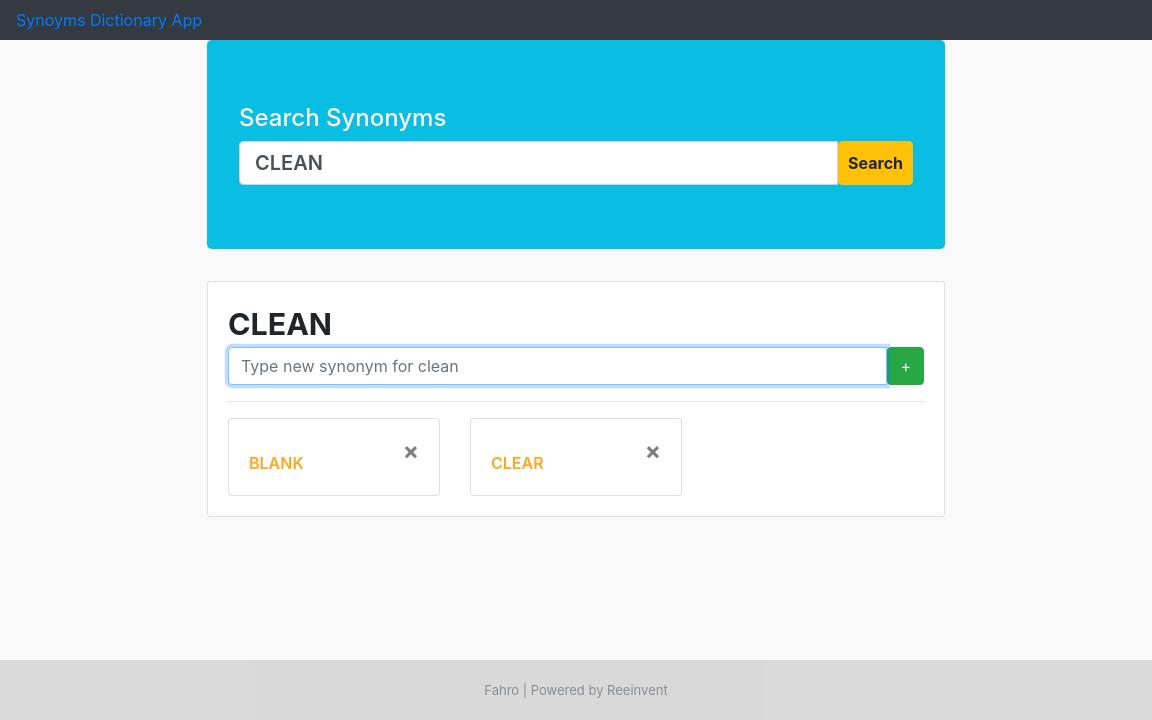
Test: <App/> › Adding synonyms › When one synonym is clicked, it displays synonyms
Click the text with class "synonym-text" showing "blank": (277,463) [249,453,304,473]
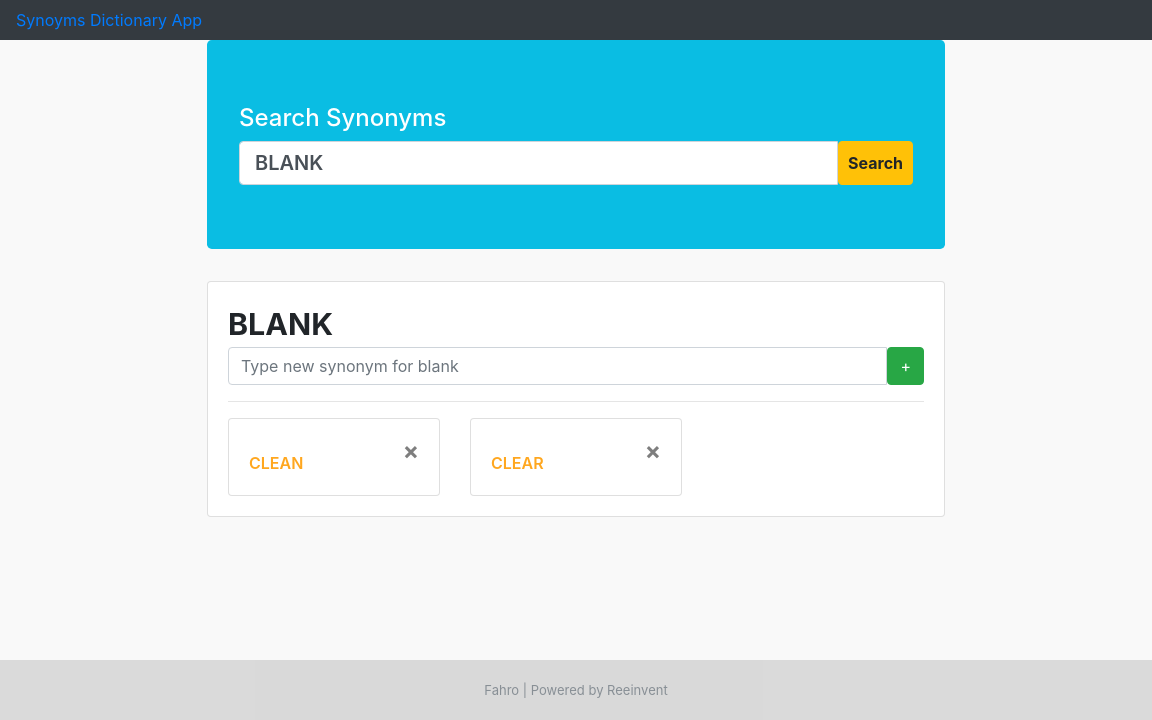
Expected: the number of elements with class "synonym-text" is 2, [249,453,303,473]; [491,453,544,473]
Expected: the text "clean" is shown, [249,453,303,473]
